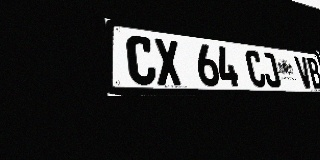4: (215, 46, 240, 87)
6: (194, 43, 221, 86)
B: (305, 57, 320, 88)
C: (126, 35, 157, 85), (244, 50, 267, 87)
J: (260, 51, 282, 88)
V: (294, 56, 314, 88)
X: (153, 38, 183, 86)
